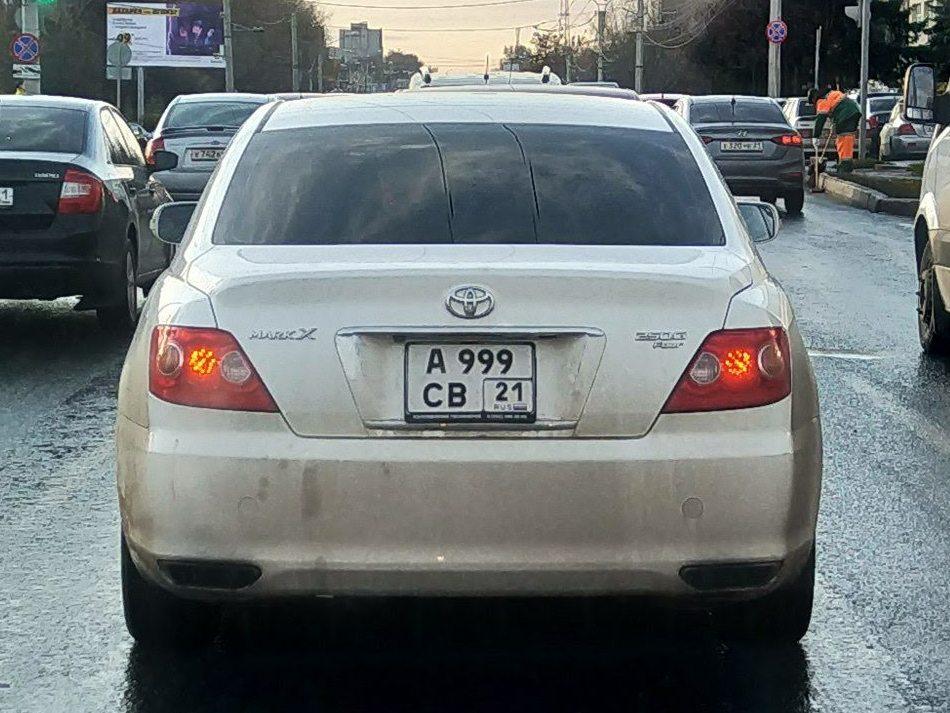number_plate: (401, 339, 548, 428)
